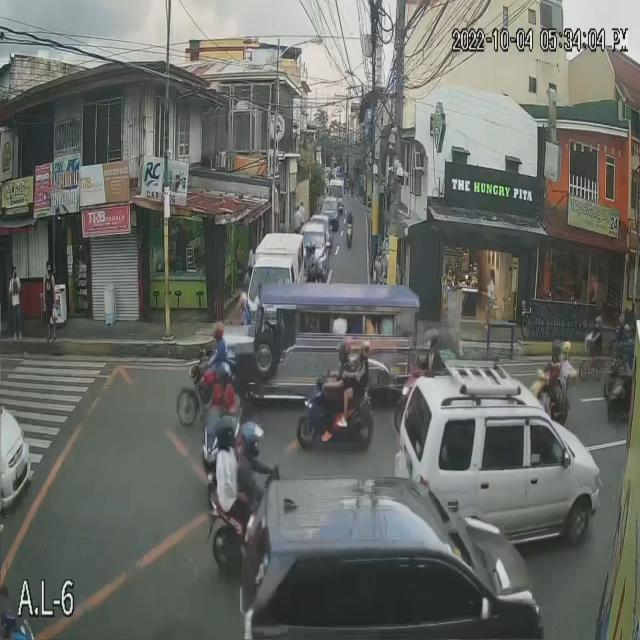full: (241, 416, 264, 461), (338, 337, 352, 363)
half: (213, 415, 240, 452), (358, 340, 371, 360), (213, 322, 224, 340)
